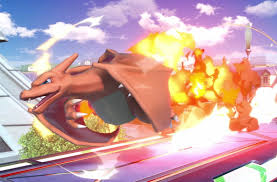charizard: (28, 45, 242, 150)
